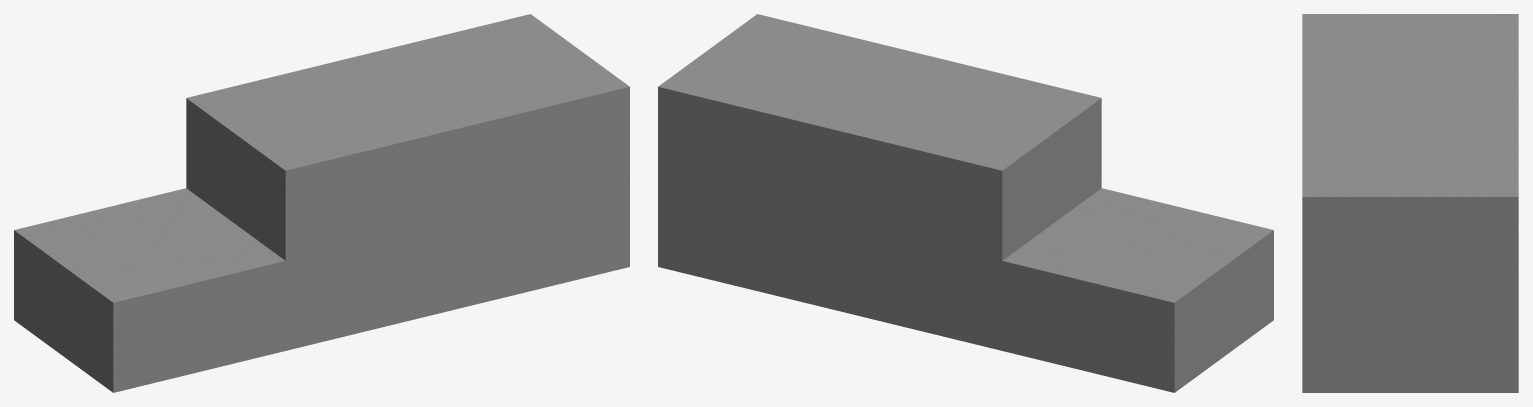
File: kaidan.fbx
The picture shows the model from 3 angles, left to right: view 1: azimuth 30°, elevation 25°; view 2: azimuth 150°, elevation 25°; view 3: azimuth 270°, elevation 25°; orthographic projection. The views are drawn at different scales.
Visible parts, largest first — view 1: kaidan; view 2: kaidan; view 3: kaidan.
Part boxes in pixels (left/top/right/bottom): kaidan: left=14, top=14, right=629, bottom=392; kaidan: left=658, top=14, right=1273, bottom=392; kaidan: left=1302, top=14, right=1518, bottom=392.
Bounding box in the file's own units: 750 × 250 × 250.
1 material, 1 textured.
